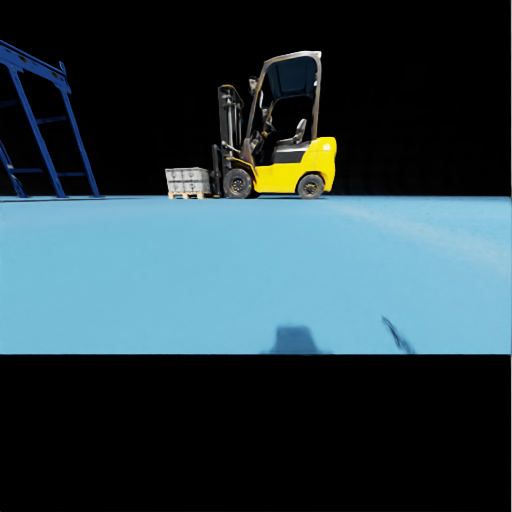transportation_area: (183, 180, 214, 191)
